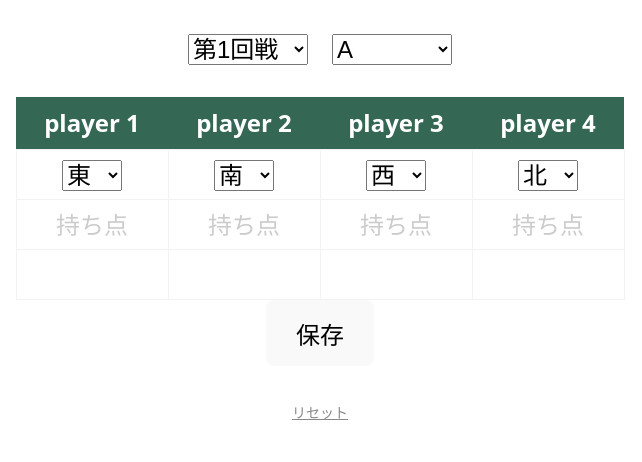
Test: <Form /> › 持ち点バリデーション
Type "40000" into the 1st number field with placeholder "持ち点". click: (92, 226)
box: x1=18 y1=212 x2=166 y2=240
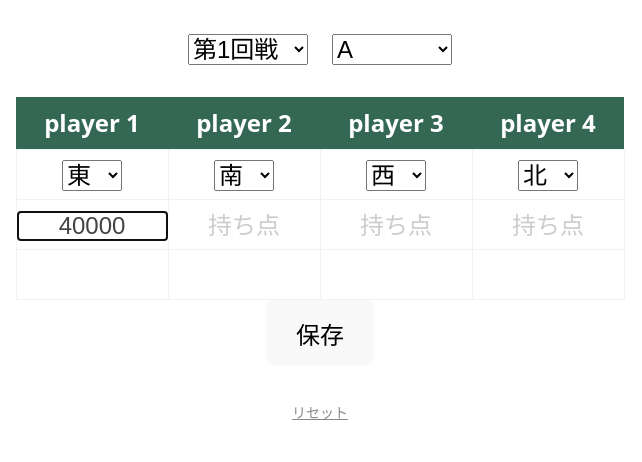
Type "30000" into the 1st number field with placeholder "持ち点". click: (244, 226)
box: x1=170 y1=212 x2=318 y2=240
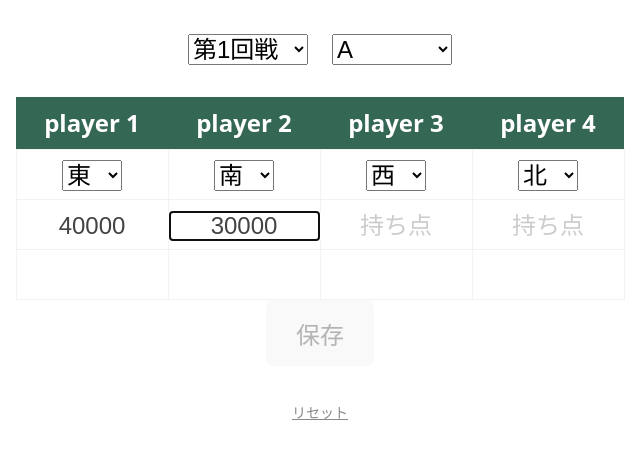
Type "20000" into the 1st number field with placeholder "持ち点". click: (396, 226)
box: x1=322 y1=212 x2=470 y2=240
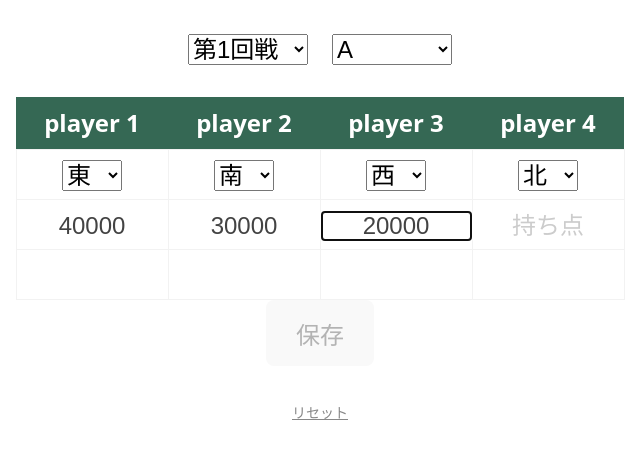
Type "9900" into the number field with placeholder "持ち点". click: (548, 226)
box: x1=474 y1=212 x2=622 y2=240
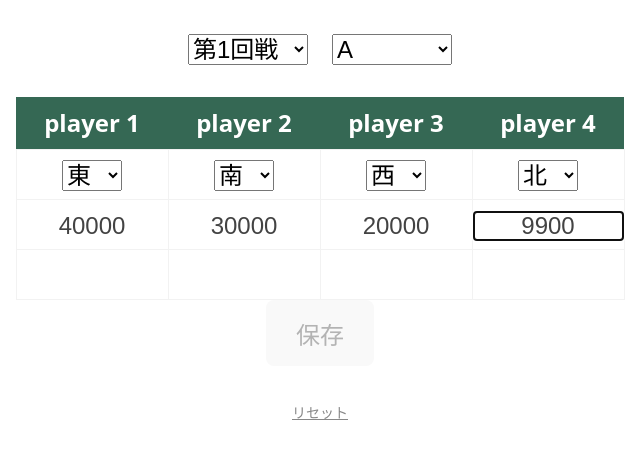
Press Tab
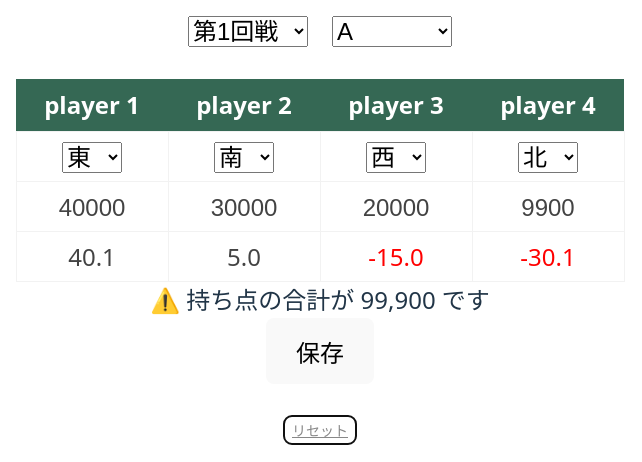
Expected: the text "持ち点の合計が 99,900 です" is shown, x1=150 y1=283 x2=490 y2=316
